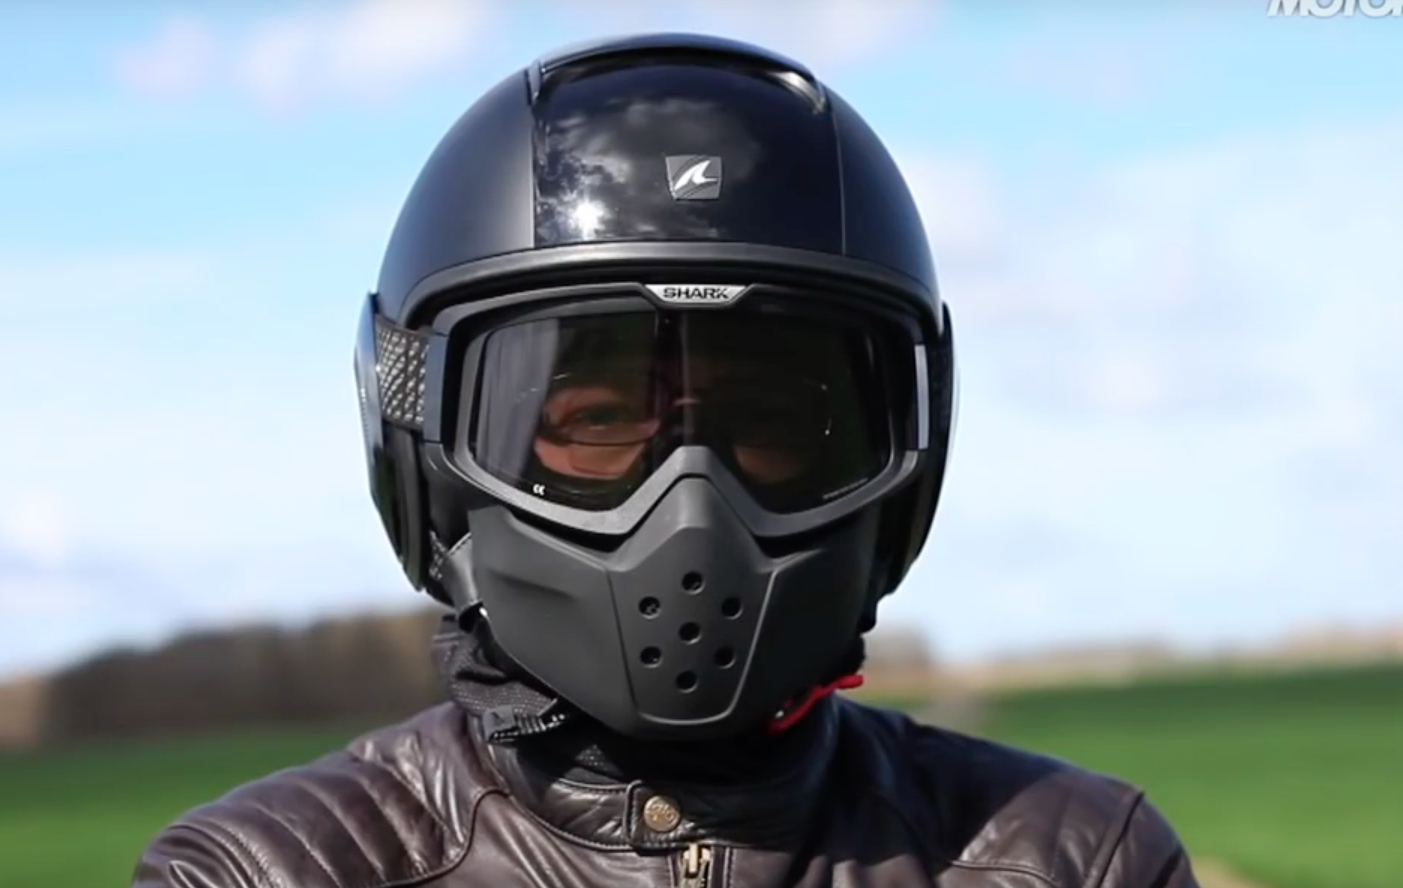helmet: (354, 33, 954, 749)
